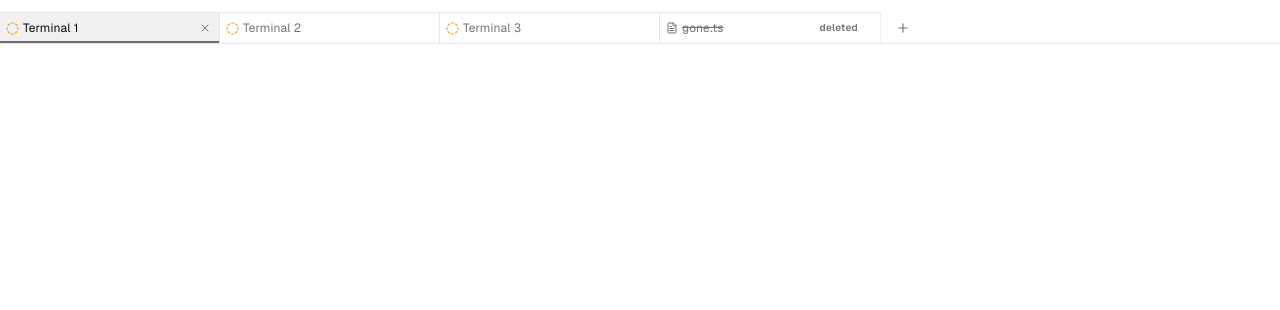
Test: TabBar editor rename (#335) › hides Rename for missing tabs (no path to rename)
Right-click the tab "gone.ts deleted" at (770, 28), box [660,12,880,43]
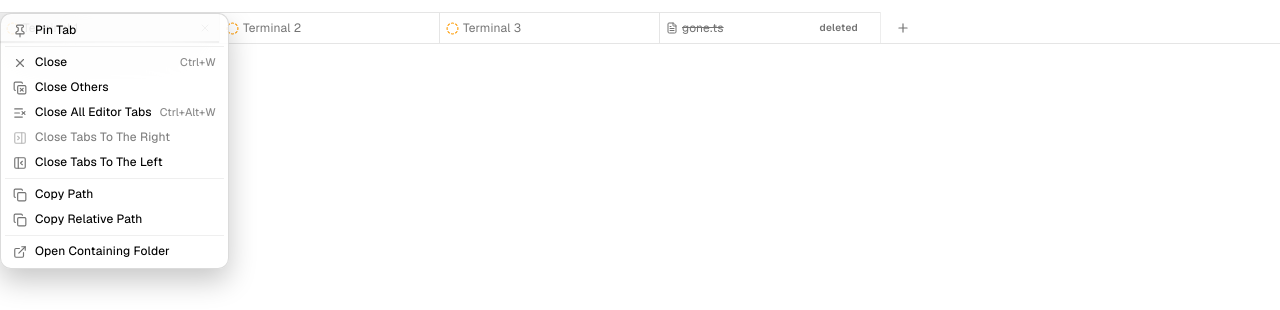
Expected: the menu item "Copy Path" is shown, [13,186,94,202]
